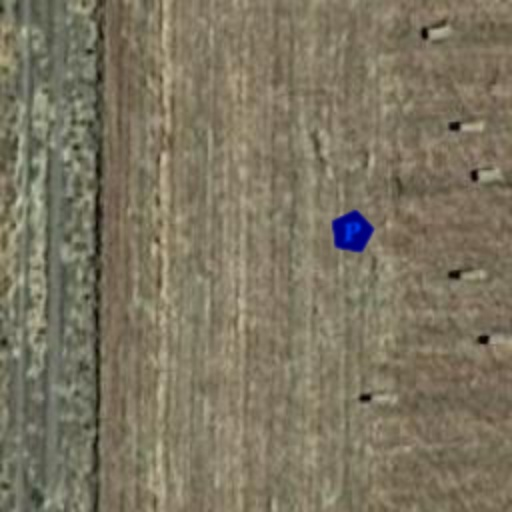pentagon: (324, 204, 380, 260)
